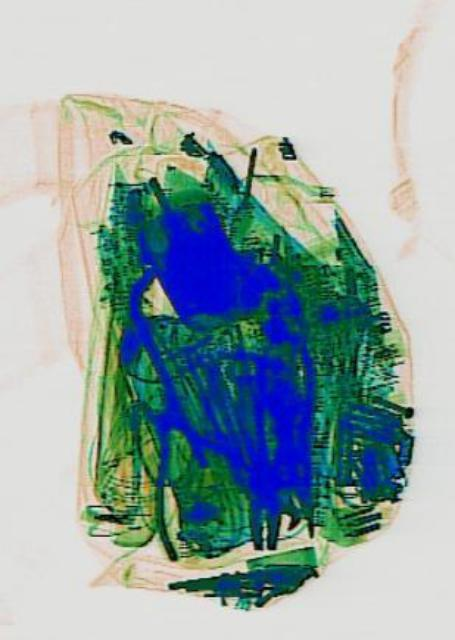Pliers: (107, 357, 258, 561), (232, 382, 292, 550)
